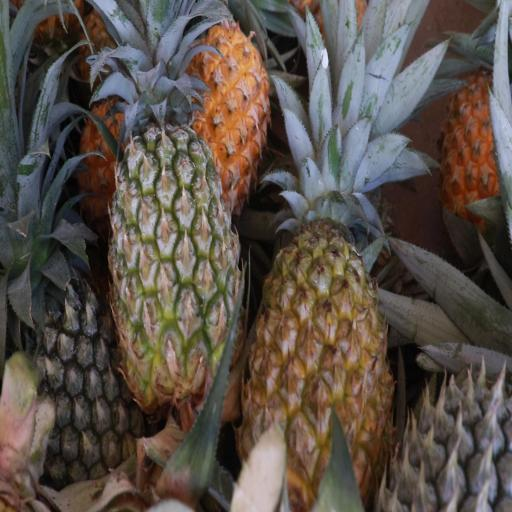------------------------------: (114, 116, 244, 386)
Pineapple - v8 v1: (244, 175, 394, 508), (120, 16, 267, 155), (434, 68, 512, 209)
